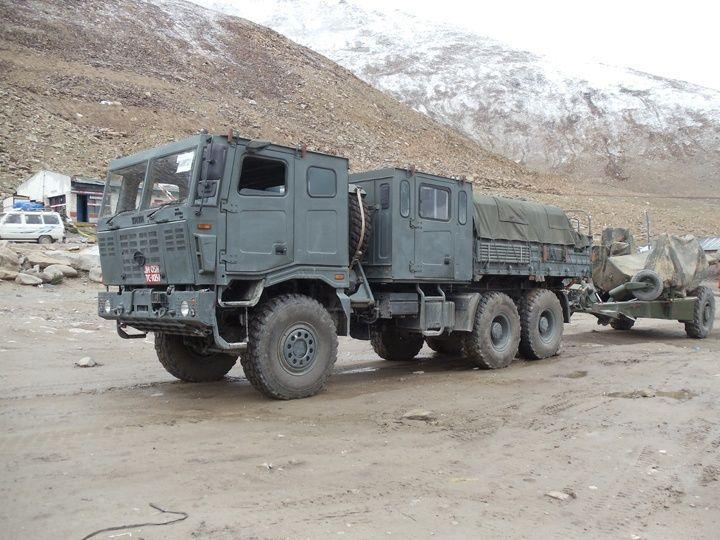truck: (105, 137, 598, 384)
